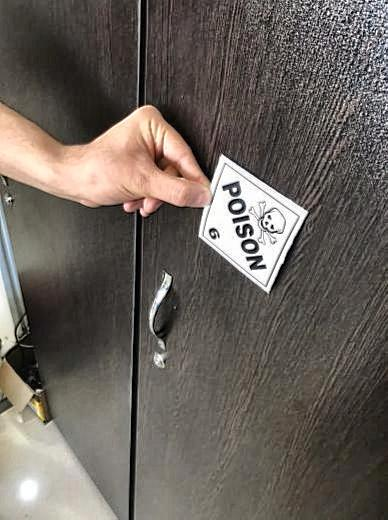poison: (193, 164, 315, 286)
